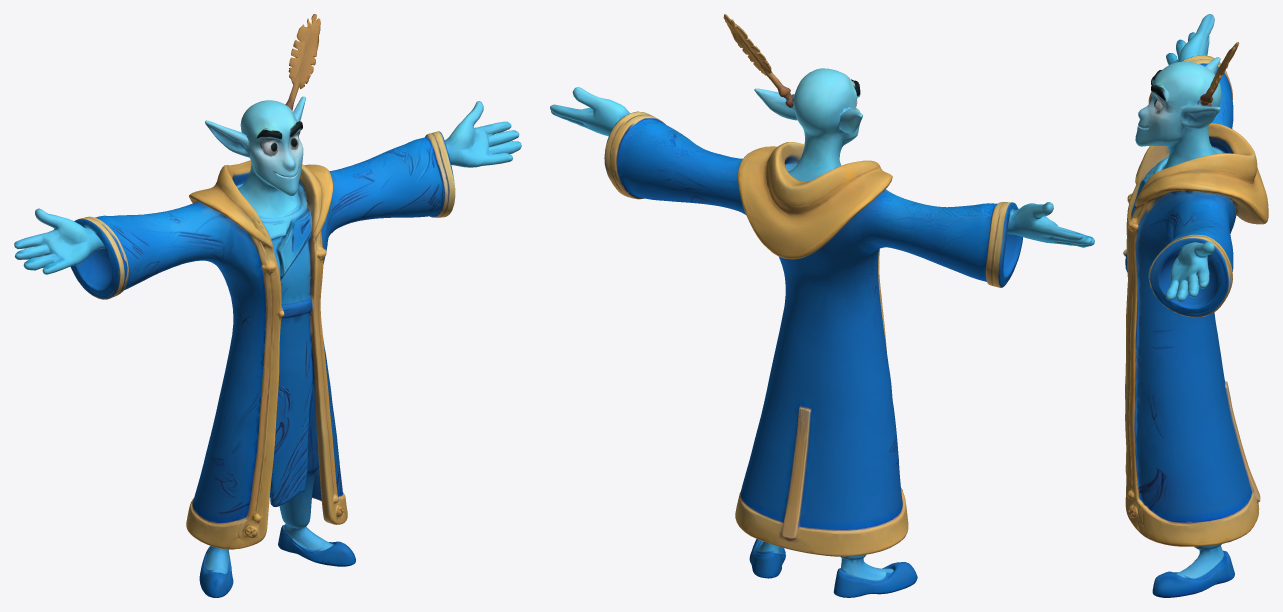
File: registrar_odessa.glb
The picture shows the model from 3 angles, left to right: view 1: azimuth 30°, elevation 25°; view 2: azimuth 150°, elevation 25°; view 3: azimuth 270°, elevation 25°; orthographic projection. The views are drawn at different scales.
Parts seen in each view (by area): view 1: tripo_node_f51dee11-f3d9-4ecd-a766-534c63ef4ba8; view 2: tripo_node_f51dee11-f3d9-4ecd-a766-534c63ef4ba8; view 3: tripo_node_f51dee11-f3d9-4ecd-a766-534c63ef4ba8.
Boxes of the visible parts, <box> form: tripo_node_f51dee11-f3d9-4ecd-a766-534c63ef4ba8: <box>14,14,521,597</box>; tripo_node_f51dee11-f3d9-4ecd-a766-534c63ef4ba8: <box>550,14,1094,597</box>; tripo_node_f51dee11-f3d9-4ecd-a766-534c63ef4ba8: <box>1123,14,1268,597</box>.
Size of the model in its own units: 0.98 by 0.9719 by 0.2313.
Materials: 1 (1 with a texture image).
